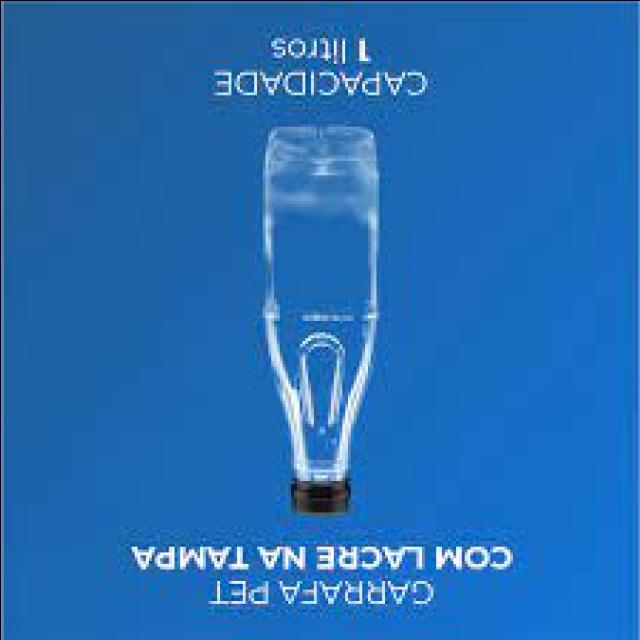bottle: (264, 126, 377, 512)
